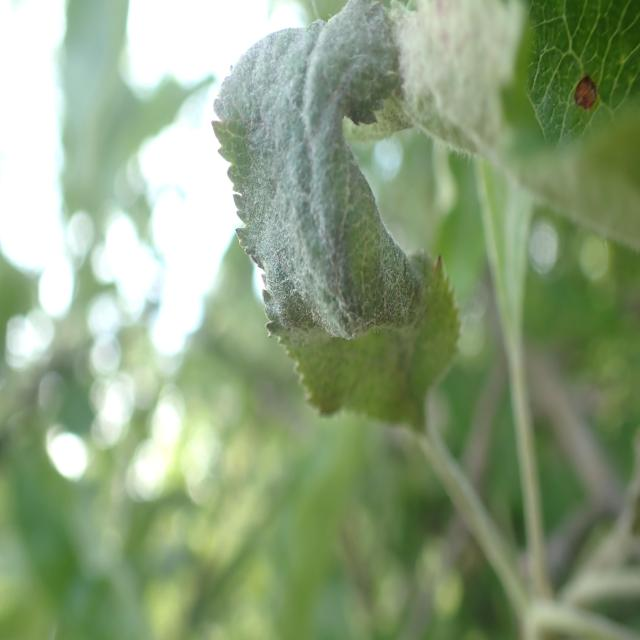Black Rot: (553, 47, 611, 131)
Powdery_mildew: (204, 0, 440, 433), (372, 0, 639, 267)
